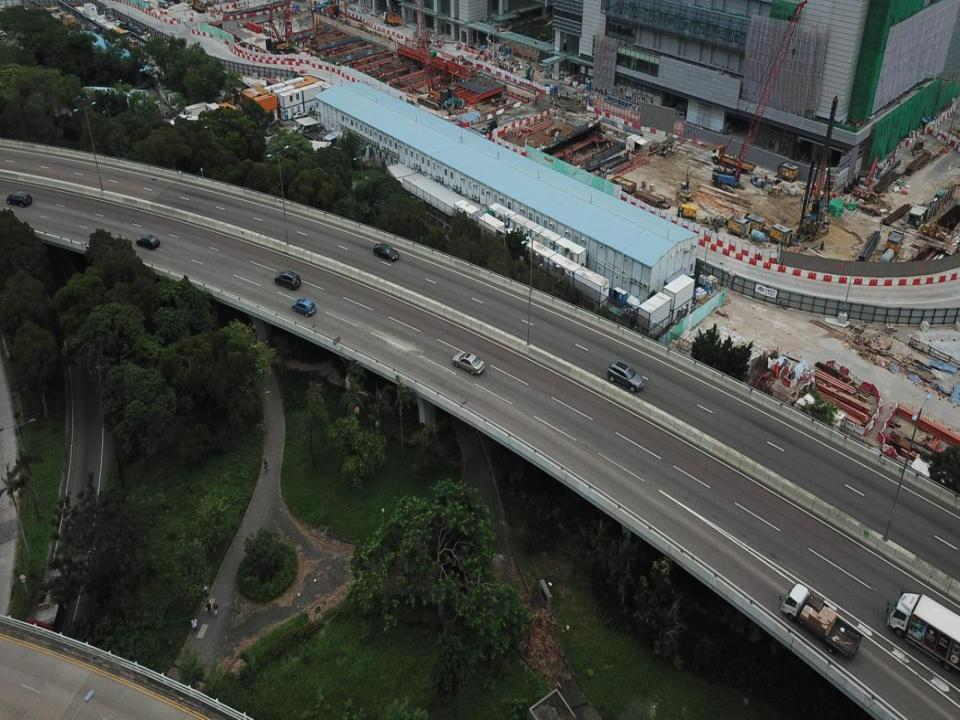car: (607, 359, 643, 395), (450, 351, 486, 376), (372, 239, 399, 266), (290, 293, 314, 320), (273, 266, 300, 290), (132, 229, 158, 252), (5, 187, 31, 210)
truck: (777, 580, 862, 662), (882, 586, 960, 672)
